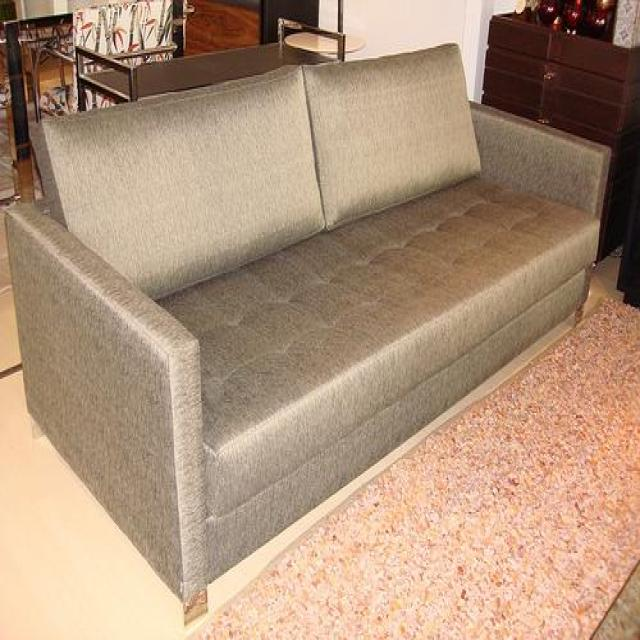sofa: (2, 39, 612, 625)
